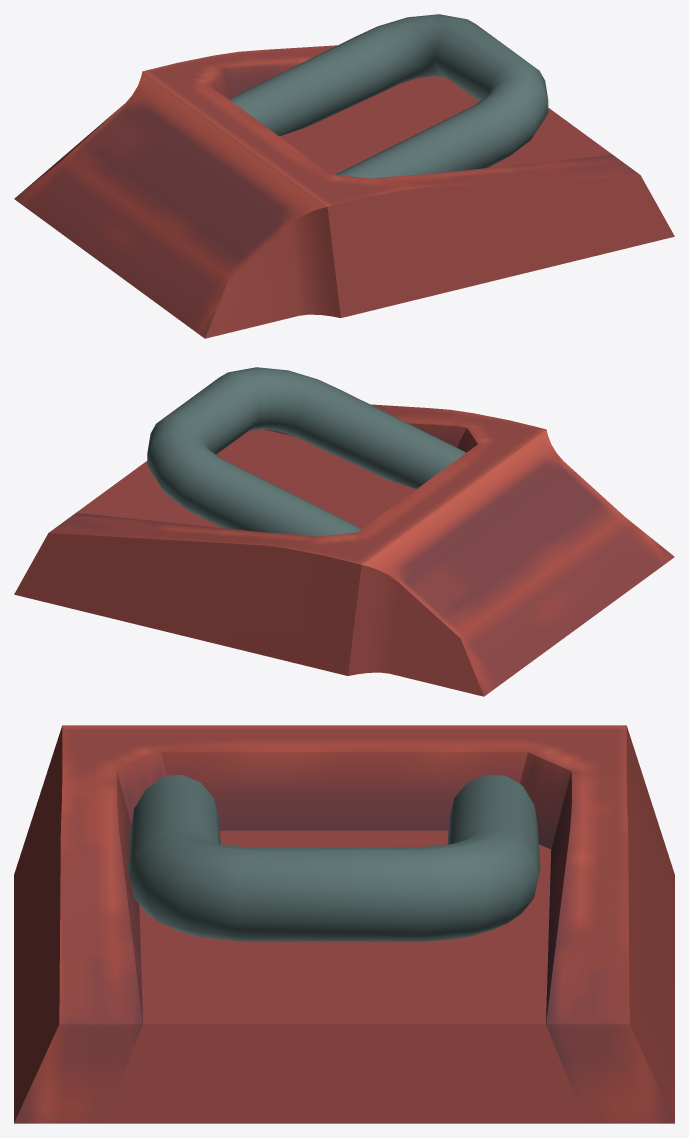
File: Vice.gltf
3 views of the same model, one above another, from view 1: azimuth 30°, elevation 25°; view 2: azimuth 150°, elevation 25°; view 3: azimuth 270°, elevation 25° (orthographic). The views are drawn at different scales.
Parts seen in each view (by area): view 1: Prop_Clamp; view 2: Prop_Clamp; view 3: Prop_Clamp.
Boxes of the visible parts, x1=… form: Prop_Clamp: x1=14, y1=14, x2=674, y2=338; Prop_Clamp: x1=14, y1=367, x2=674, y2=696; Prop_Clamp: x1=14, y1=725, x2=674, y2=1123.
Size of the model in its own units: 0.5605 by 0.1617 by 0.4602.
2 materials, 2 textured.
